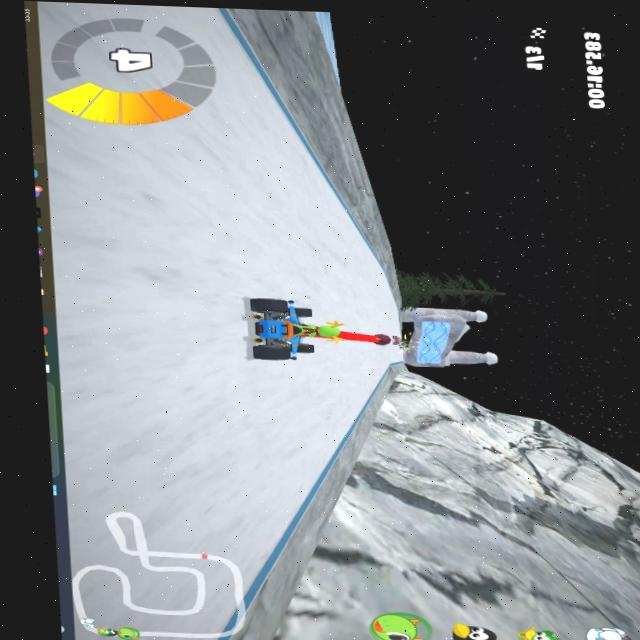enemy_kart: (388, 332, 408, 351)
player_kart: (238, 293, 341, 370)
track: (36, 1, 238, 368), (56, 364, 276, 539), (70, 531, 209, 640), (223, 174, 342, 297), (223, 98, 298, 176), (268, 368, 329, 456), (337, 216, 381, 333), (214, 28, 266, 100), (202, 536, 256, 595), (272, 452, 309, 501), (374, 279, 403, 332), (330, 370, 362, 415), (345, 342, 385, 371), (360, 369, 380, 390), (381, 349, 406, 362)
